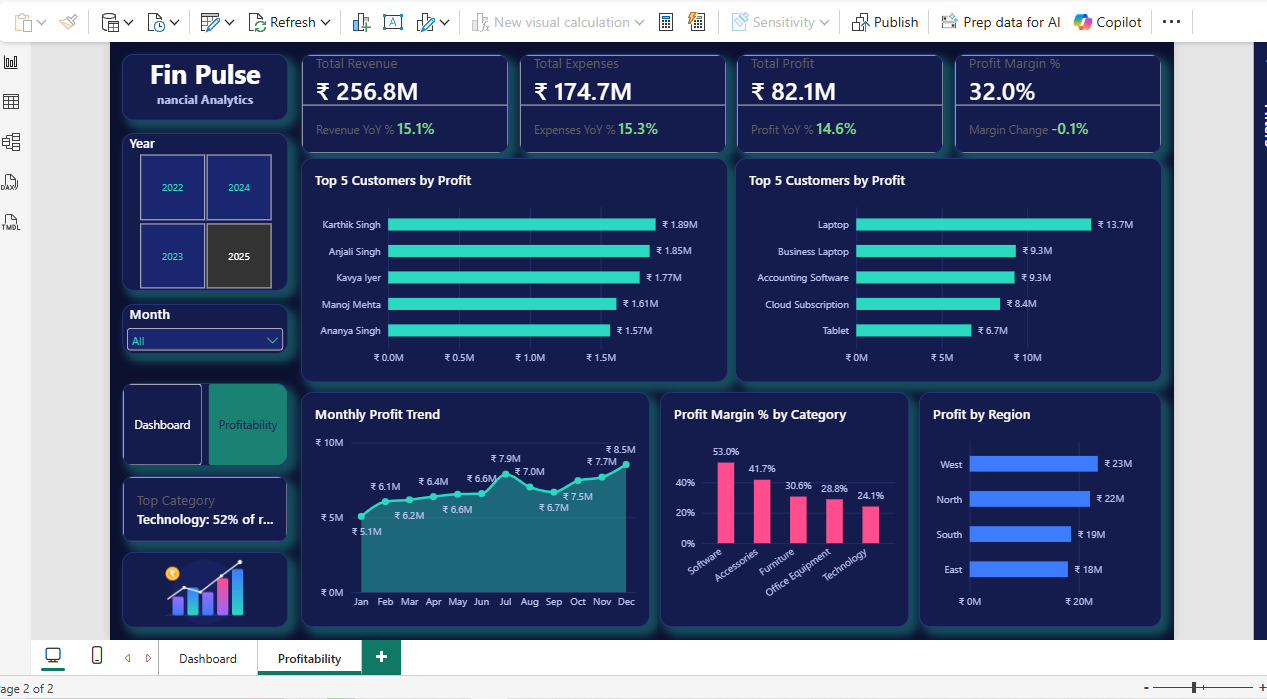

The dashboard page shown, as its layout file describes it:
{"tool":"powerbi","page":{"name":"Profitability","canvas":[1280,720],"ordinal":1},"visuals":[{"type":"textbox","box":[15,15,200,80],"z":0},{"type":"slicer","fields":{"Values":["DimDate.Year"]},"box":[15,110,200,190],"z":1000},{"type":"slicer","fields":{"Values":["DimDate.Month"]},"box":[15,315,200,60],"z":2000},{"type":"cardVisual","fields":{"Data":["fact_transactions.Total Revenue"]},"box":[230,15,250,120],"z":3000},{"type":"cardVisual","fields":{"Data":["fact_transactions.Profit Margin %"]},"box":[1016,15,250,120],"z":4000},{"type":"cardVisual","fields":{"Data":["fact_transactions.Total Expenses"]},"box":[492,15,250,120],"z":5000},{"type":"cardVisual","fields":{"Data":["fact_transactions.Total Profit"]},"box":[754,15,250,120],"z":6000},{"type":"pageNavigator","box":[15,410,200,100],"z":7000},{"type":"cardVisual","fields":{"Data":["fact_transactions.Top Category"]},"box":[15,522,200,80],"z":8000},{"type":"image","box":[15,614,200,91],"z":9000},{"type":"clusteredBarChart","title":"Top 5 Customers by Profit","fields":{"Category":["dim_customers.customer_name"],"Y":["fact_transactions.Total Profit"]},"box":[230,140,514,270],"z":10000},{"type":"clusteredBarChart","title":"Top 5 Customers by Profit","fields":{"Category":["dim_products.product_name"],"Y":["fact_transactions.Total Profit"]},"box":[752,140,514,270],"z":11000},{"type":"areaChart","title":"Monthly Profit Trend","fields":{"Category":["DimDate.Month"],"Y":["fact_transactions.Total Profit"]},"box":[230,422,420,283],"z":12000},{"type":"clusteredColumnChart","title":"Profit Margin % by Category","fields":{"Category":["dim_products.category"],"Y":["fact_transactions.Profit Margin %"]},"box":[662,422,300,283],"z":13000},{"type":"clusteredBarChart","title":"Profit by Region","fields":{"Category":["dim_customers.region"],"Y":["fact_transactions.Total Profit"]},"box":[974,422,292,283],"z":14000}]}

Visuals, with their boxes on the page's 1280x720 design canvas (x1, y1, x2, y2). These are canvas units, not pixel positions in the 1267x699 screenshot, which may show the page scaled, cropped or inside an application window:
textbox: 15, 15, 215, 95
slicer - DimDate.Year: 15, 110, 215, 300
slicer - DimDate.Month: 15, 315, 215, 375
cardVisual - fact_transactions.Total Revenue: 230, 15, 480, 135
cardVisual - fact_transactions.Profit Margin %: 1016, 15, 1266, 135
cardVisual - fact_transactions.Total Expenses: 492, 15, 742, 135
cardVisual - fact_transactions.Total Profit: 754, 15, 1004, 135
pageNavigator: 15, 410, 215, 510
cardVisual - fact_transactions.Top Category: 15, 522, 215, 602
image: 15, 614, 215, 705
"Top 5 Customers by Profit" clusteredBarChart: 230, 140, 744, 410
"Top 5 Customers by Profit" clusteredBarChart: 752, 140, 1266, 410
"Monthly Profit Trend" areaChart: 230, 422, 650, 705
"Profit Margin % by Category" clusteredColumnChart: 662, 422, 962, 705
"Profit by Region" clusteredBarChart: 974, 422, 1266, 705
